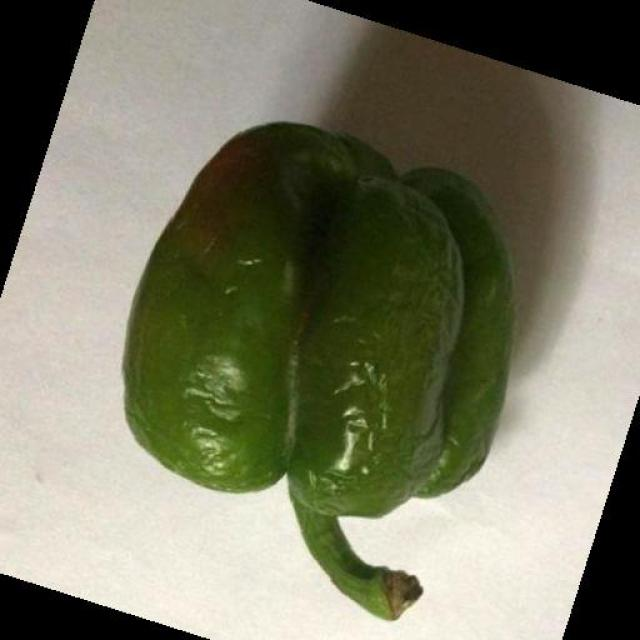Stale_Capsicum: (115, 81, 515, 563)
